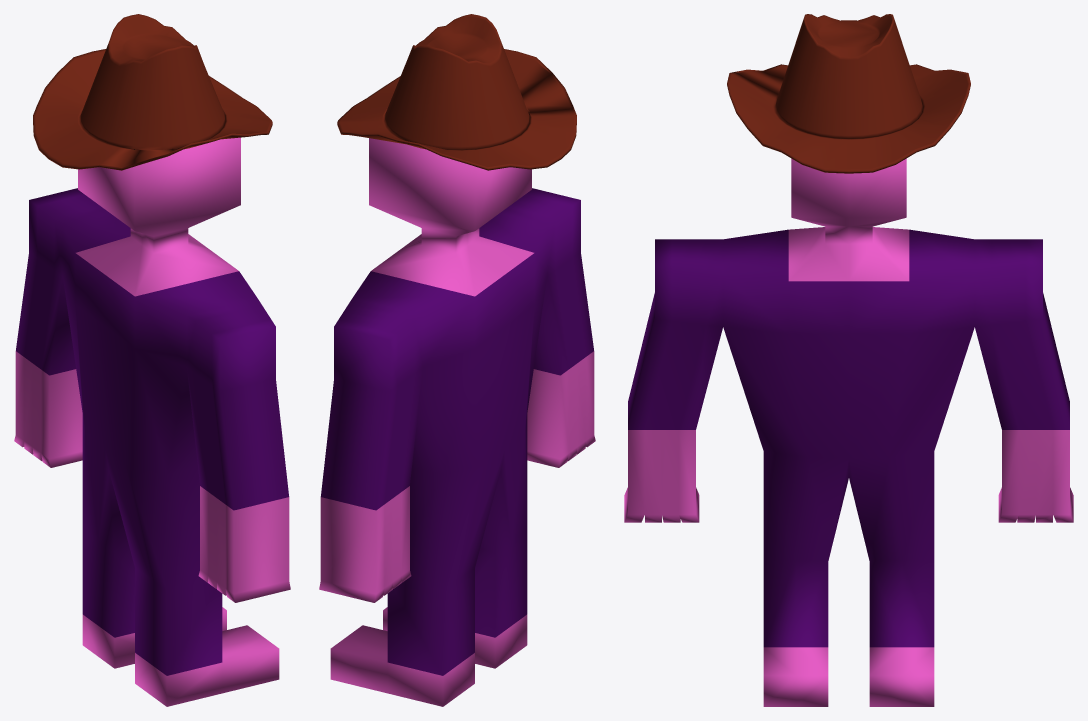
The model's file is CowboyBuilder.fbx.
3 views of the same model, side by side, from view 1: azimuth 30°, elevation 25°; view 2: azimuth 150°, elevation 25°; view 3: azimuth 270°, elevation 25° (orthographic).
Visible parts, largest first — view 1: Cowboy, Circle; view 2: Cowboy, Circle; view 3: Cowboy, Circle.
Boxes of the visible parts, x1,y1,x2,y2 form: Cowboy: (14, 137, 290, 706); Circle: (33, 14, 272, 170); Cowboy: (319, 138, 595, 706); Circle: (337, 14, 576, 170); Cowboy: (624, 158, 1073, 706); Circle: (727, 14, 970, 173).
Bounding box in the file's own units: 0.5363 × 1.57 × 0.9878.
